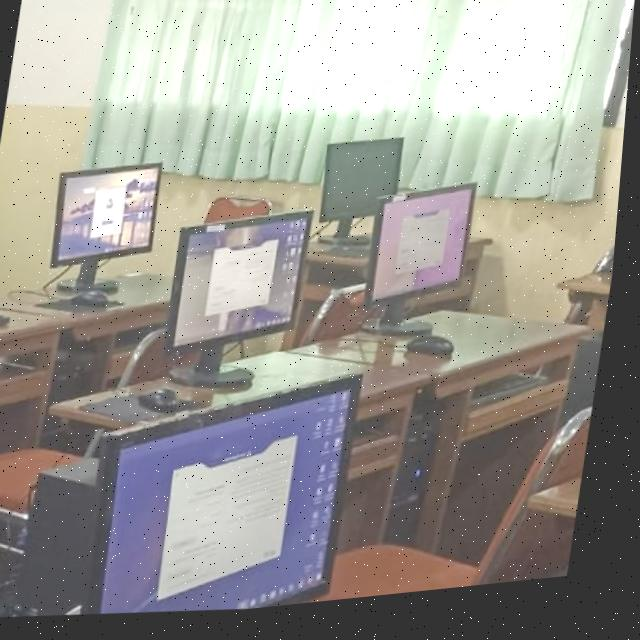offscreen: (324, 146, 405, 228)
onscreen: (96, 359, 368, 616), (173, 217, 315, 352), (371, 194, 479, 311), (56, 167, 162, 267)
